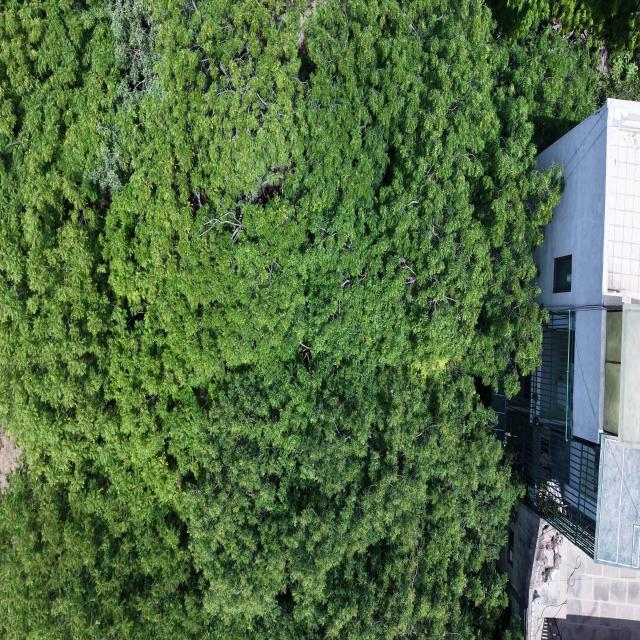DRY_AREA: (0, 426, 20, 493)
ROOFTOP_BUILDING: (493, 99, 639, 638)
VEGETATION_TREE: (0, 0, 638, 639)
